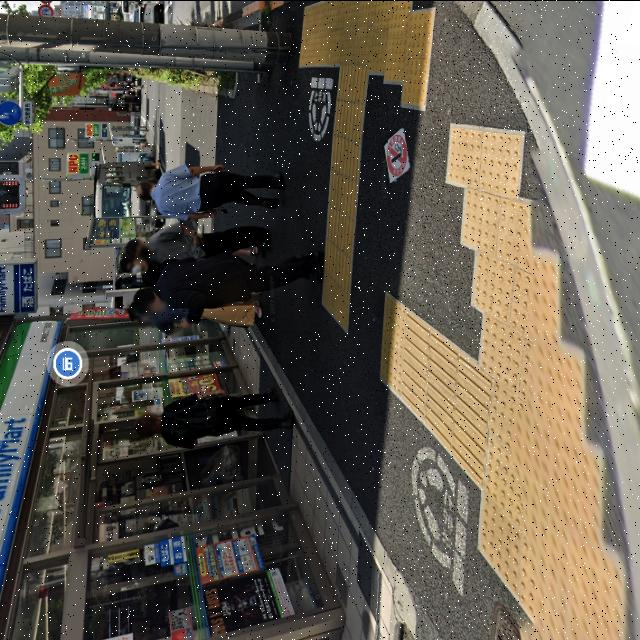traffic-light: (0, 163, 22, 220)
